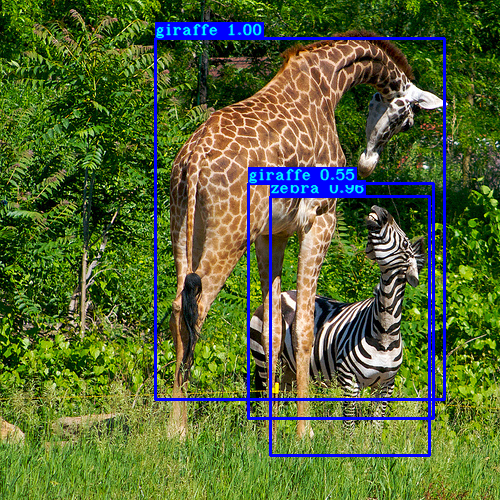giraffe: (155, 38, 444, 399), (248, 183, 433, 418)
zebra: (270, 196, 429, 455)
